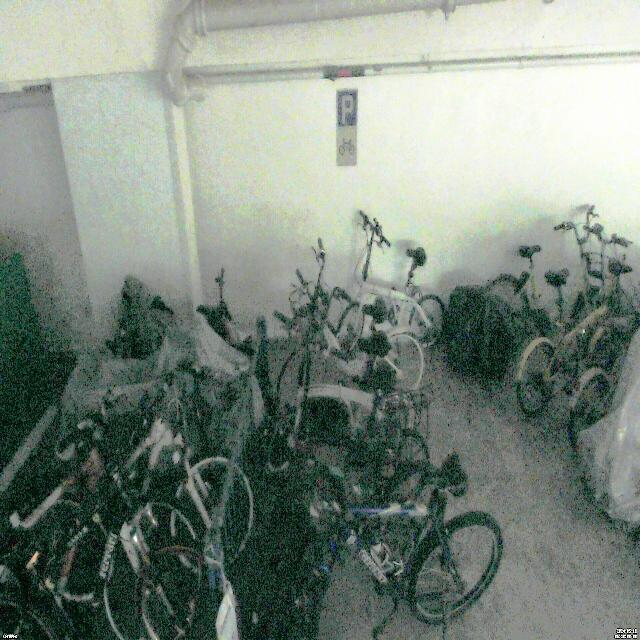bike: (0, 394, 200, 640), (40, 376, 254, 599), (277, 450, 502, 640), (263, 310, 428, 496), (277, 238, 427, 414), (515, 221, 640, 409), (484, 206, 618, 362), (335, 210, 445, 351)
